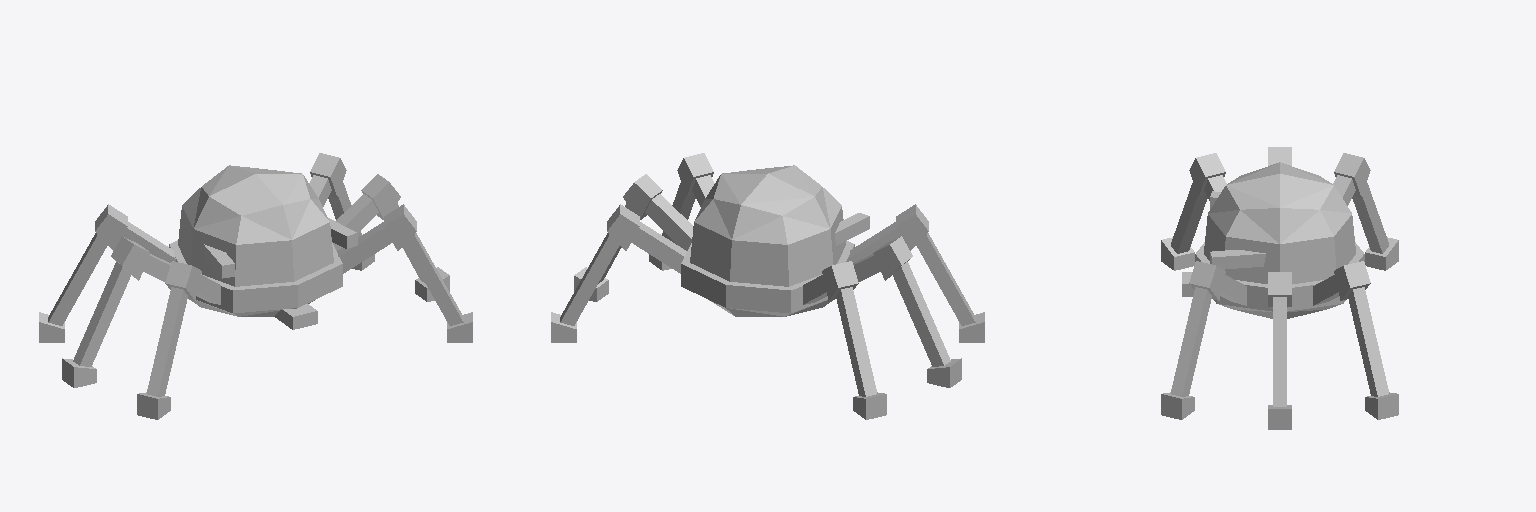
File: astaroth.obj
3 renders of one model, left to right at view 1: azimuth 30°, elevation 25°; view 2: azimuth 150°, elevation 25°; view 3: azimuth 270°, elevation 25°, orthographic.
Visible parts, largest first — view 1: Head, Base, FrontLeftLeg, MiddleRightLeg, FrontRightLeg, BackRightLeg, MiddleLeftLeg, BackLeftLeg, RightArm, LeftArm; view 2: Head, BackLeftLeg, MiddleRightLeg, Base, BackRightLeg, FrontRightLeg, MiddleLeftLeg, FrontLeftLeg, RightArm; view 3: Head, BackLeftLeg, FrontLeftLeg, BackRightLeg, FrontRightLeg, MiddleLeftLeg, Base, LeftArm.
Boxes of the visible parts, x1,y1,x2,y2 form: Head: [178, 165, 333, 286]; Base: [169, 240, 342, 329]; FrontLeftLeg: [337, 204, 472, 342]; MiddleRightLeg: [62, 236, 170, 387]; FrontRightLeg: [137, 261, 220, 419]; BackRightLeg: [39, 204, 175, 342]; MiddleLeftLeg: [332, 174, 449, 301]; BackLeftLeg: [309, 153, 374, 270]; RightArm: [203, 244, 234, 278]; LeftArm: [328, 218, 357, 248]; Head: [690, 165, 845, 286]; BackLeftLeg: [551, 204, 686, 342]; MiddleRightLeg: [853, 236, 961, 387]; Base: [681, 241, 854, 316]; BackRightLeg: [803, 261, 886, 419]; FrontRightLeg: [848, 204, 984, 342]; MiddleLeftLeg: [574, 174, 692, 301]; FrontLeftLeg: [649, 153, 714, 270]; RightArm: [834, 213, 869, 245]; Head: [1204, 162, 1355, 283]; BackLeftLeg: [1313, 261, 1398, 419]; FrontLeftLeg: [1161, 261, 1246, 419]; BackRightLeg: [1333, 153, 1398, 270]; FrontRightLeg: [1161, 153, 1226, 270]; MiddleLeftLeg: [1268, 272, 1291, 429]; Base: [1182, 242, 1364, 318]; LeftArm: [1210, 250, 1265, 269].
Size of the model in its own units: 5.13 by 2.15 by 2.81.